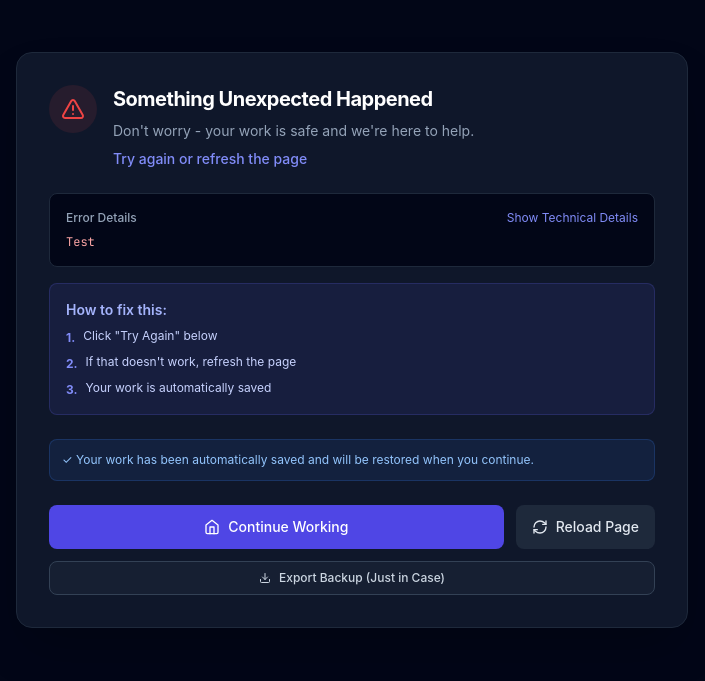
Scenario: Error Boundary Unit Tests › FullPageError Component › should display component stack when provided
Click the button "Show Technical Details". click: (572, 218)
box: x1=507 y1=210 x2=638 y2=226
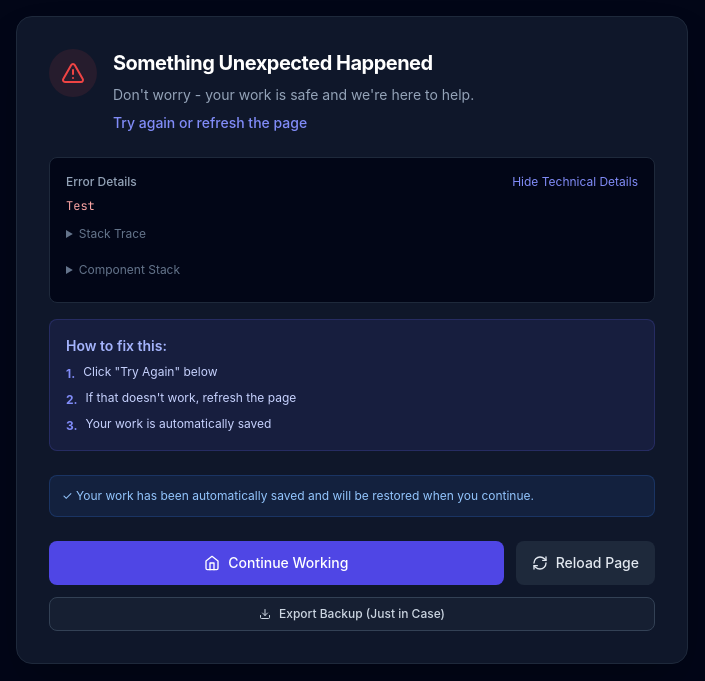
Check: the heading "Component Stack" is shown, box x1=79 y1=262 x2=180 y2=277
